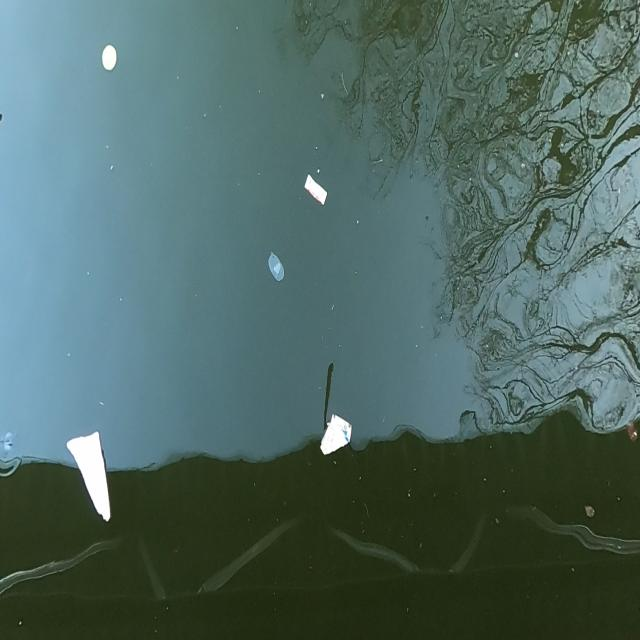Autre plastique: (64, 430, 117, 530), (318, 410, 356, 465), (99, 42, 121, 77)
